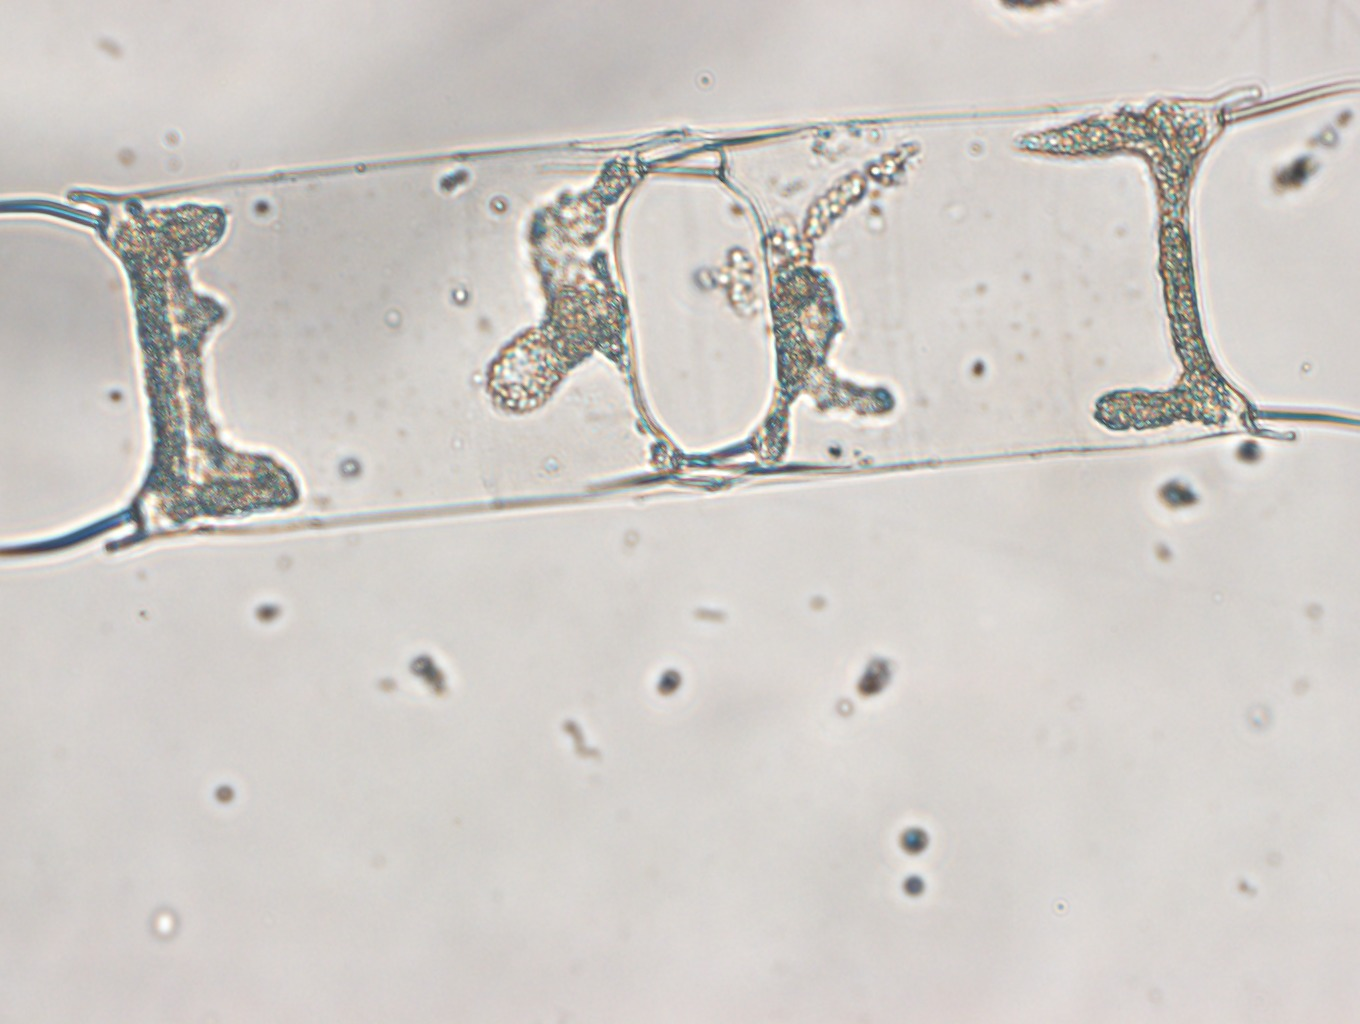biddulphia: (1, 79, 1360, 566)
